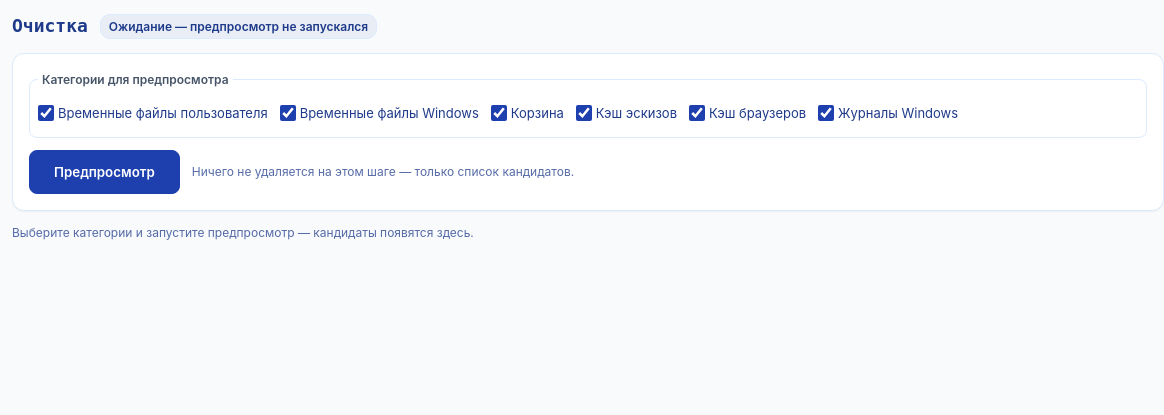
Test case: cleaner — CleanerPage (jsdom project) › shows an explicit empty result without enabling deletion
The width and height of the screenshot is (1164, 415).
Click the button "Предпросмотр" at {"x": 104, "y": 172}, box [29,150,180,194]
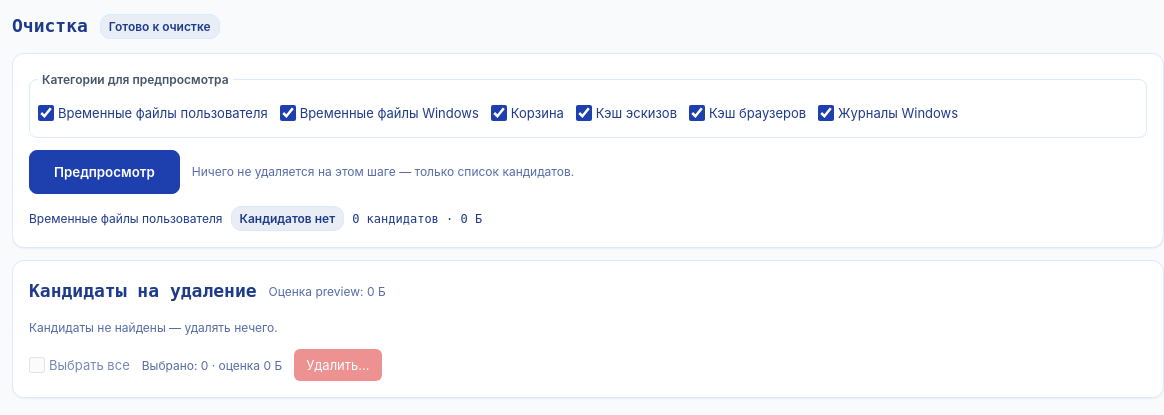
Check: the heading "Кандидаты на удаление" is shown, box [29,277,257,306]
Check: the text "Кандидаты не найдены — удалять нечего." is shown, box [29,320,278,335]
Check: the button "Удалить…" is disabled, box [294,349,382,381]
